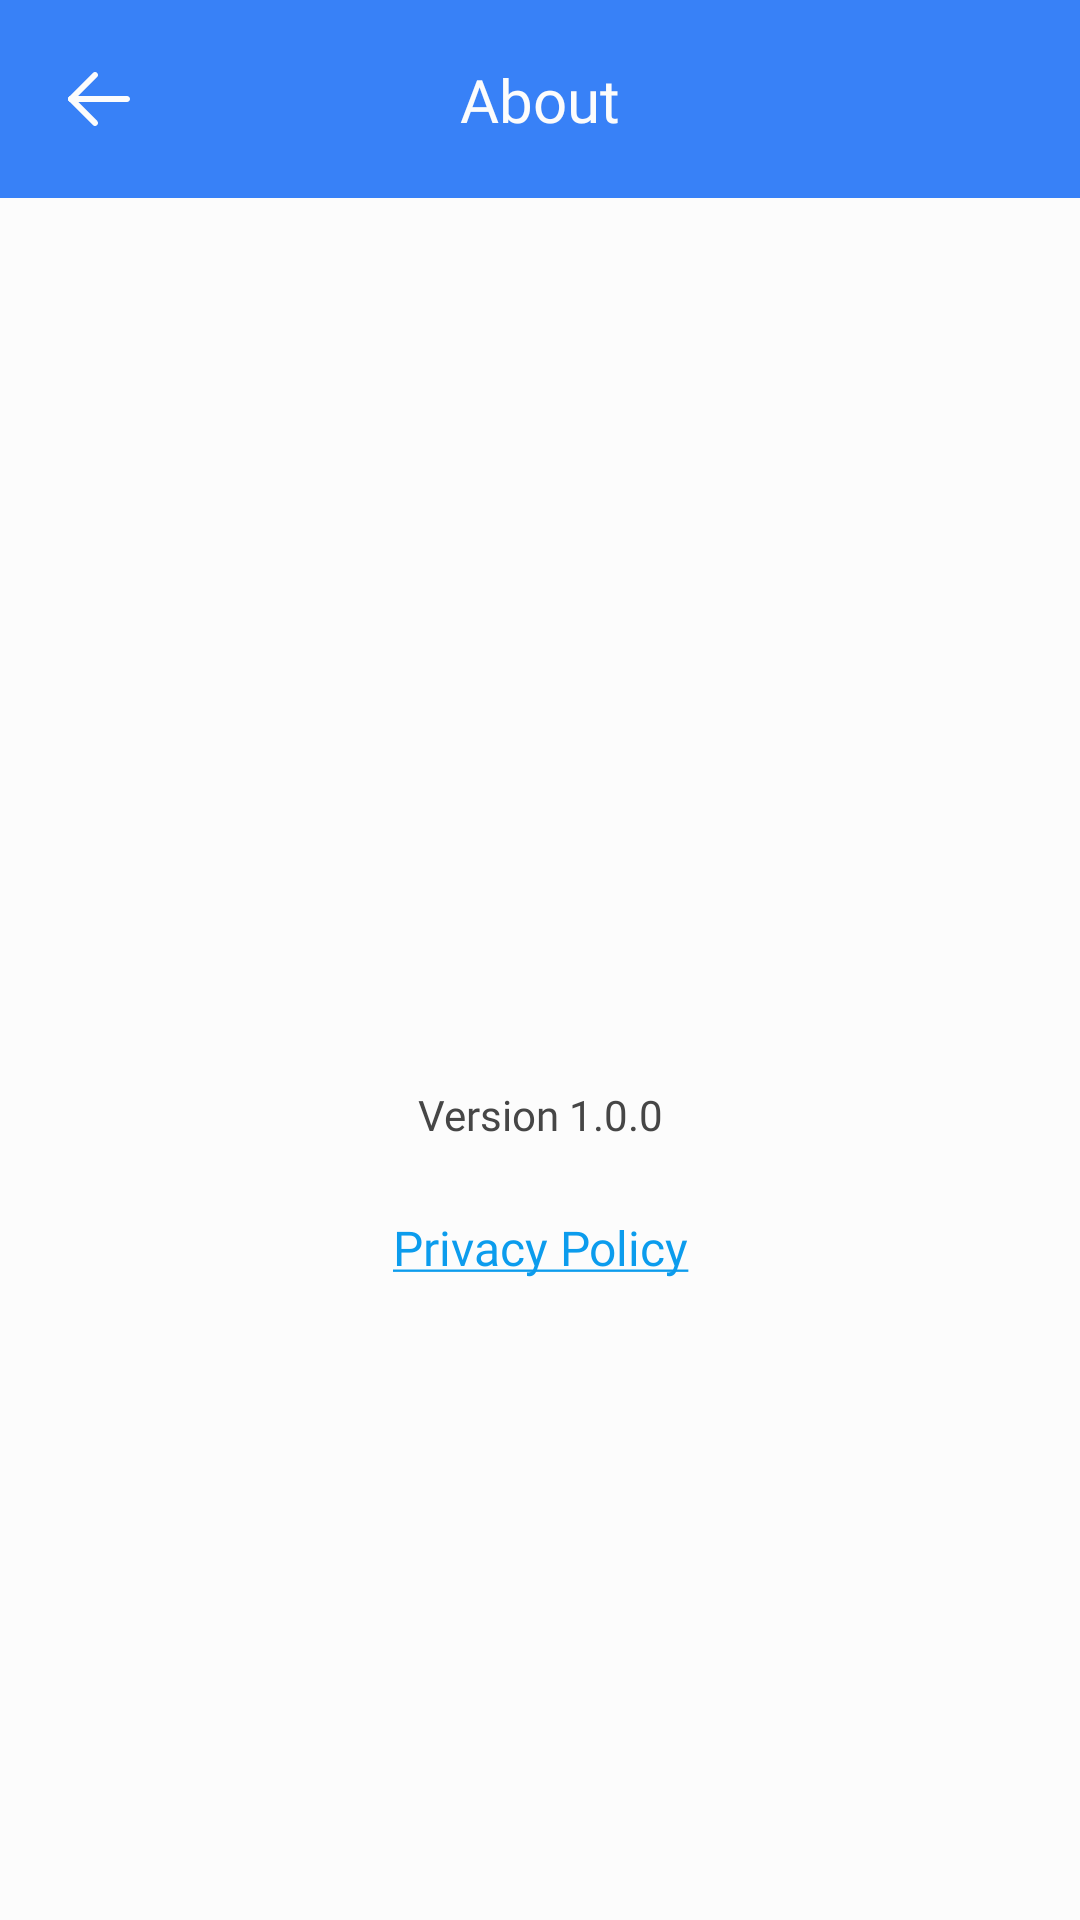

Where to tap for icons on this 1080px x 1920px app screen, as (x=x, y=y):
back: (x=99, y=99)
